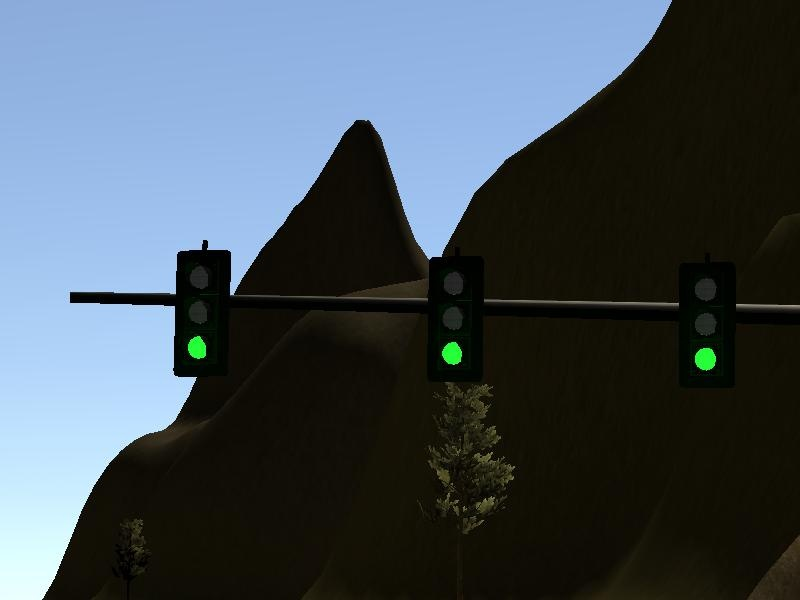green: (411, 252, 481, 394), (172, 241, 234, 386), (673, 248, 735, 389)
